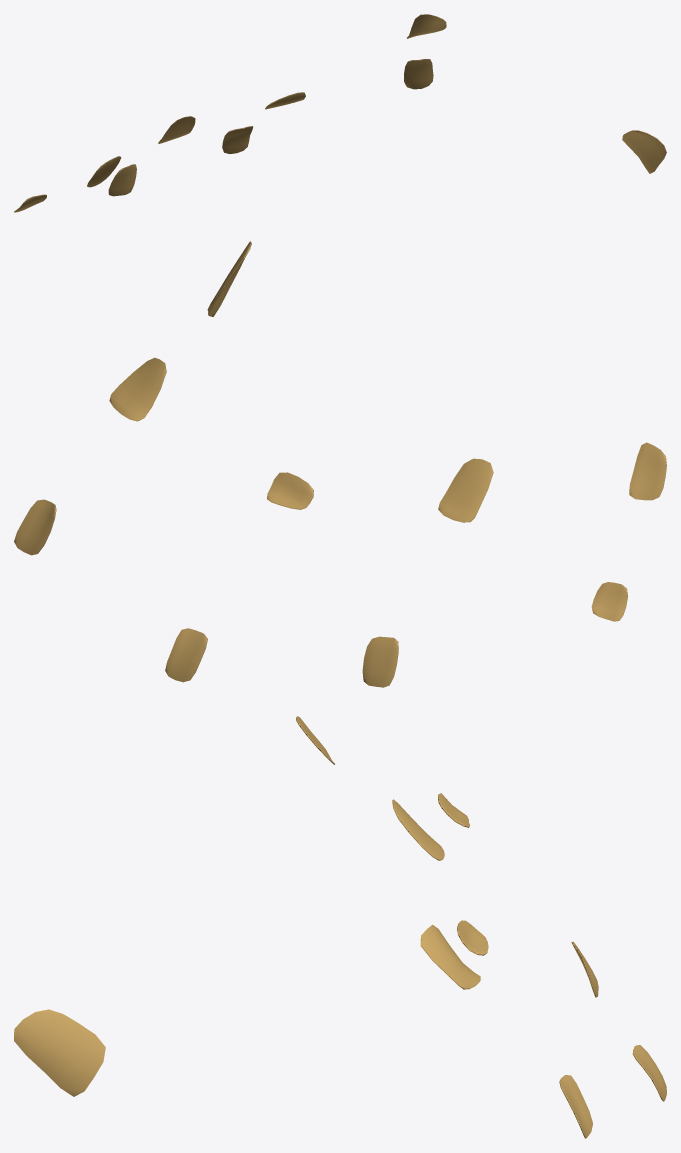
3 renders of one model, top to bottom at view 1: azimuth 30°, elevation 25°; view 2: azimuth 150°, elevation 25°; view 3: azimuth 270°, elevation 25°, orthographic. The views are drawn at different scales.
Visible parts, largest first — view 1: 左侧指间关节掌侧韧带; view 2: 左侧指间关节掌侧韧带; view 3: 左侧指间关节掌侧韧带.
Boxes of the visible parts, box(x1,y1,x2,y2) form: 左侧指间关节掌侧韧带: box(14, 14, 666, 212); 左侧指间关节掌侧韧带: box(14, 241, 666, 687); 左侧指间关节掌侧韧带: box(14, 716, 666, 1138).
Size of the model in its own units: 0.1414 by 0.0494 by 0.1229.
